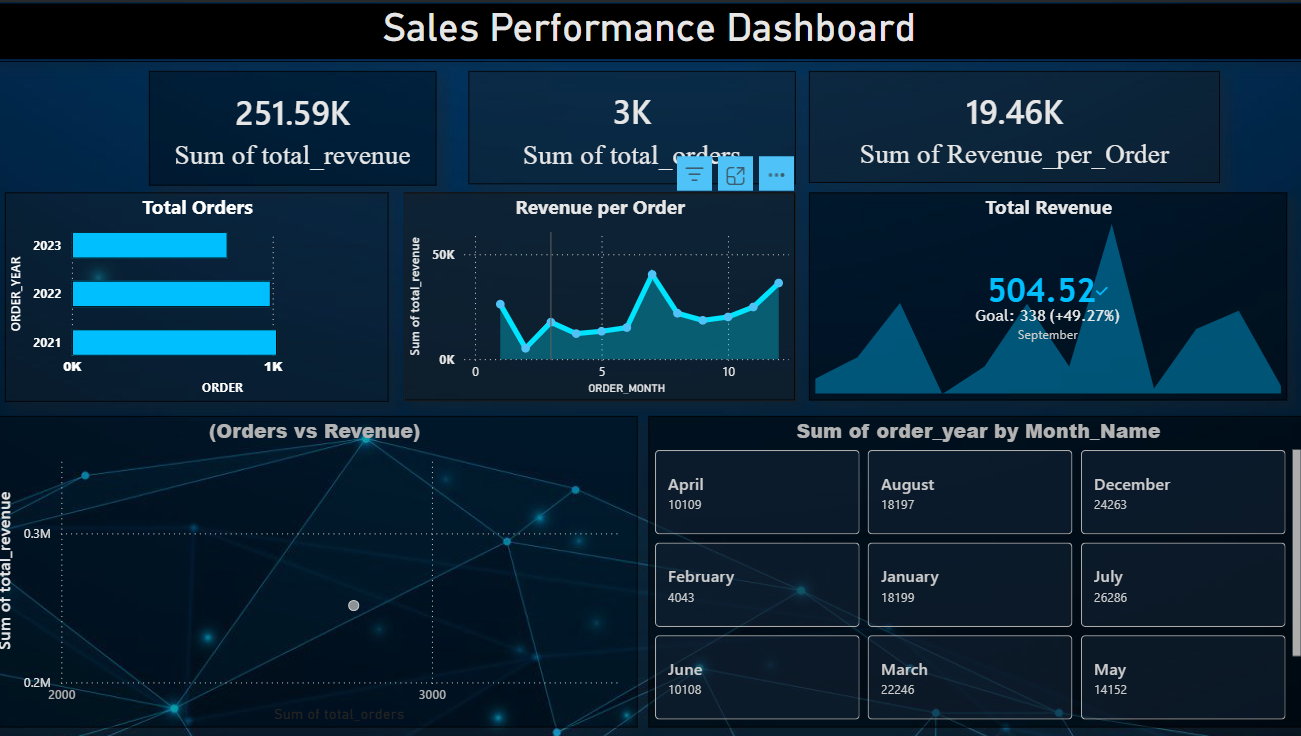

What the dashboard file says about the page in this screenshot:
{"tool":"powerbi","page":{"name":"Page 1","canvas":[1280,720],"ordinal":0},"visuals":[{"type":"card","fields":{"Values":["Sum(sales_data_sample.total_revenue)"]},"box":[154.4,66.8,279.2,111.4],"z":0},{"type":"card","fields":{"Values":["Sum(sales_data_sample.total_orders)"]},"box":[464.8,66.8,317.8,109.9],"z":1},{"type":"card","fields":{"Values":["Sum(sales_data_sample.Revenue_per_Order)"]},"box":[795.9,66.8,399.4,108.4],"z":2},{"type":"barChart","title":"Total Orders","fields":{"Category":["sales_data_sample.order_year"],"Y":["Sum(sales_data_sample.total_orders)"]},"box":[14.8,185.6,372.7,203.4],"z":3},{"type":"lineChart","title":"Revenue per Order","fields":{"Category":["sales_data_sample.order_month"],"Y":["Sum(sales_data_sample.total_revenue)"]},"box":[402.4,185.6,380.1,201.9],"z":4},{"type":"scatterChart","title":"(Orders vs Revenue)","fields":{"X":["Sum(sales_data_sample.total_orders)"],"Y":["Sum(sales_data_sample.total_revenue)"]},"box":[0,402.4,629.6,302.9],"z":5},{"type":"advancedSlicerVisual","fields":{"Label":["Sum(sales_data_sample.order_year)"],"Values":["sales_data_sample.Month_Name"]},"box":[640,402.4,640,302.9],"z":6},{"type":"kpi","title":"Total Revenue","fields":{"Indicator":["Sum(sales_data_sample.Revenue_per_Order)"],"TrendLine":["sales_data_sample.Month_Name"],"Goal":["Sum(sales_data_sample.total_orders)"]},"box":[795.9,185.6,464.8,201.9],"z":7},{"type":"textbox","title":"Sales Performance Dashboard","box":[0,1.5,1280,56.4],"z":8}]}

Visuals, with their boxes in screenshot pixels (x1, y1, x2, y2), scaled from the page's 1280x720 canvas onto the 1301x736 screenshot:
card - Sum(sales_data_sample.total_revenue): left=157, top=68, right=441, bottom=182
card - Sum(sales_data_sample.total_orders): left=472, top=68, right=795, bottom=181
card - Sum(sales_data_sample.Revenue_per_Order): left=809, top=68, right=1215, bottom=179
"Total Orders" barChart: left=15, top=190, right=394, bottom=398
"Revenue per Order" lineChart: left=409, top=190, right=795, bottom=396
"(Orders vs Revenue)" scatterChart: left=0, top=411, right=640, bottom=721
advancedSlicerVisual - Sum(sales_data_sample.order_year) x sales_data_sample.Month_Name: left=650, top=411, right=1300, bottom=721
"Total Revenue" kpi: left=809, top=190, right=1281, bottom=396
"Sales Performance Dashboard" textbox: left=0, top=2, right=1300, bottom=59
